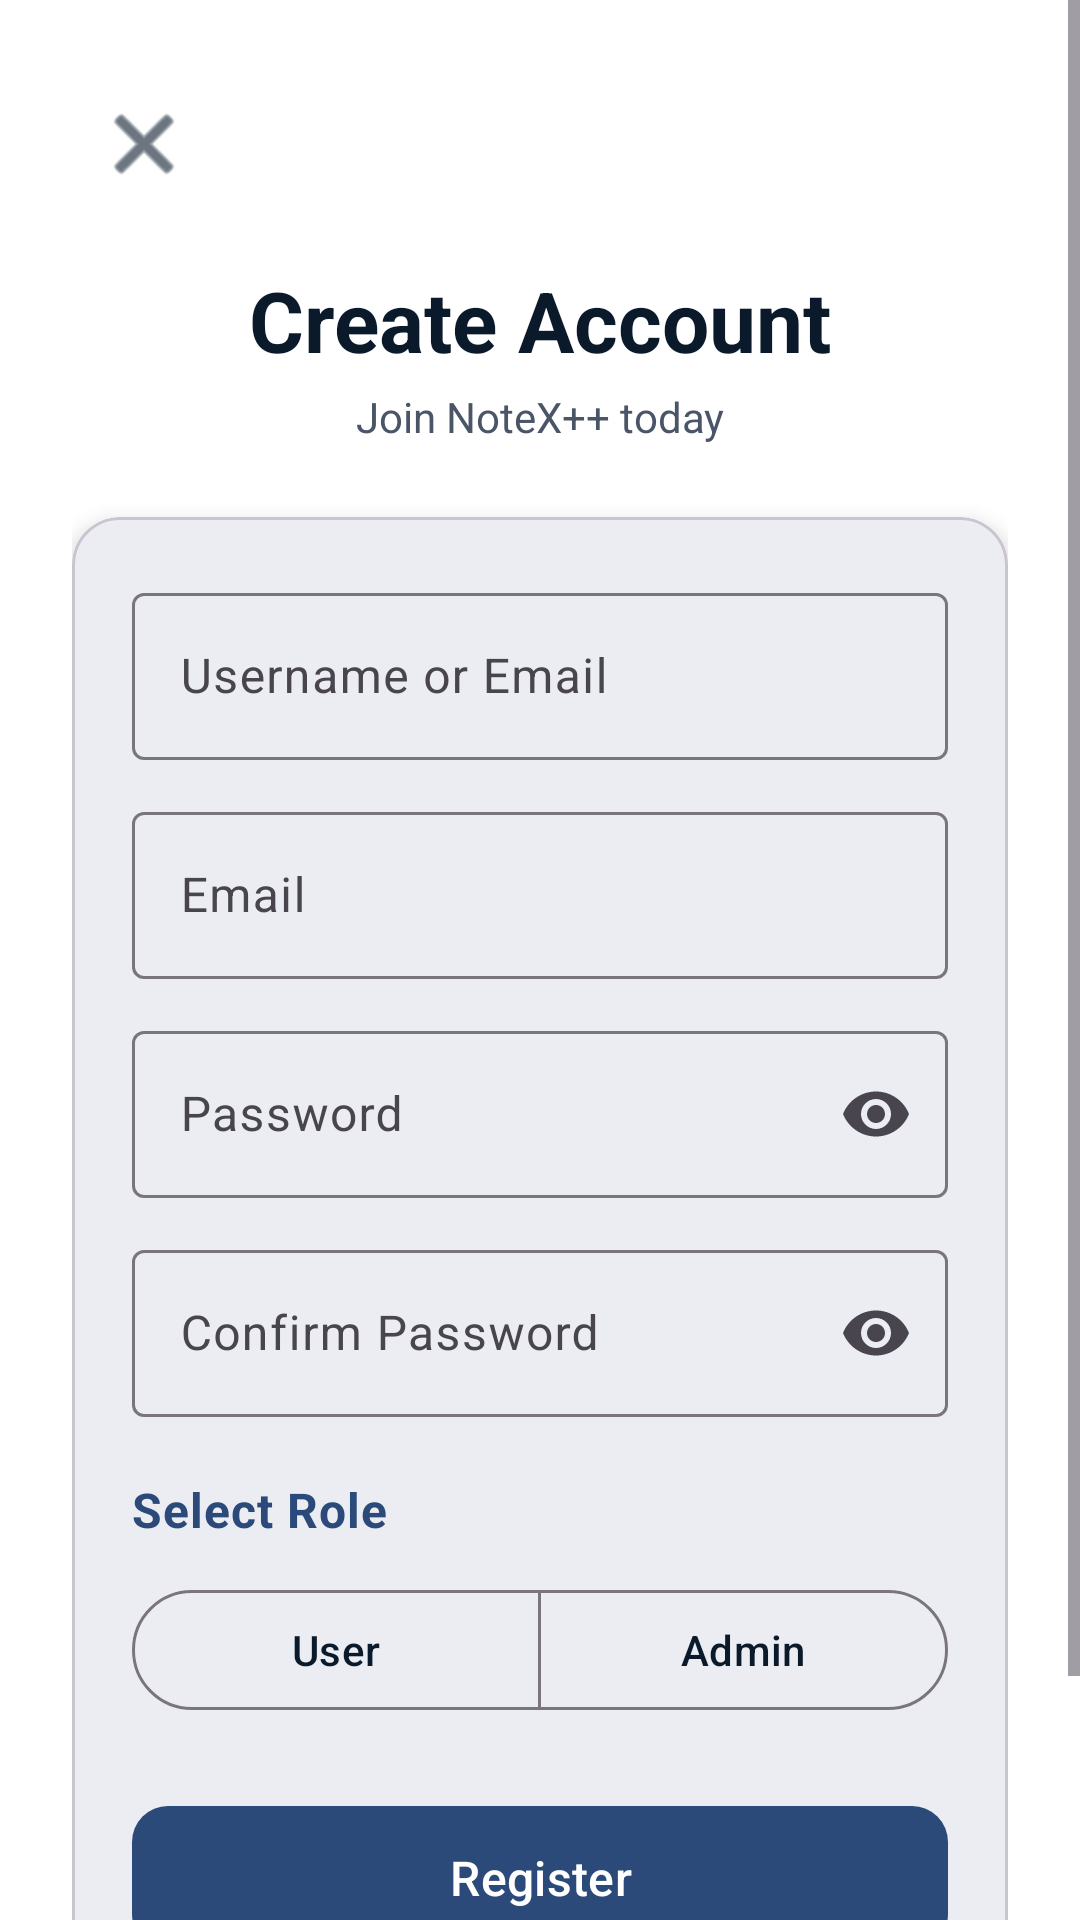

Named icons in this screenshot (1080px×1920px) and their bounding boxes, (x1, y1, x2, y2):
Cancel: (114, 114, 174, 174)
